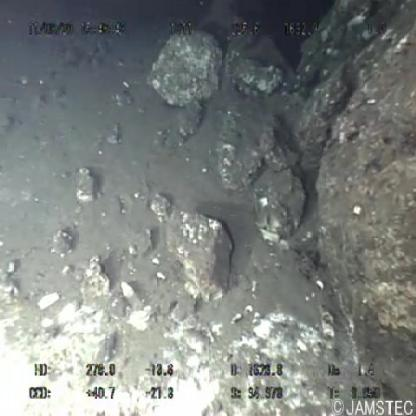Rác: (250, 188, 280, 253), (117, 277, 147, 317)
